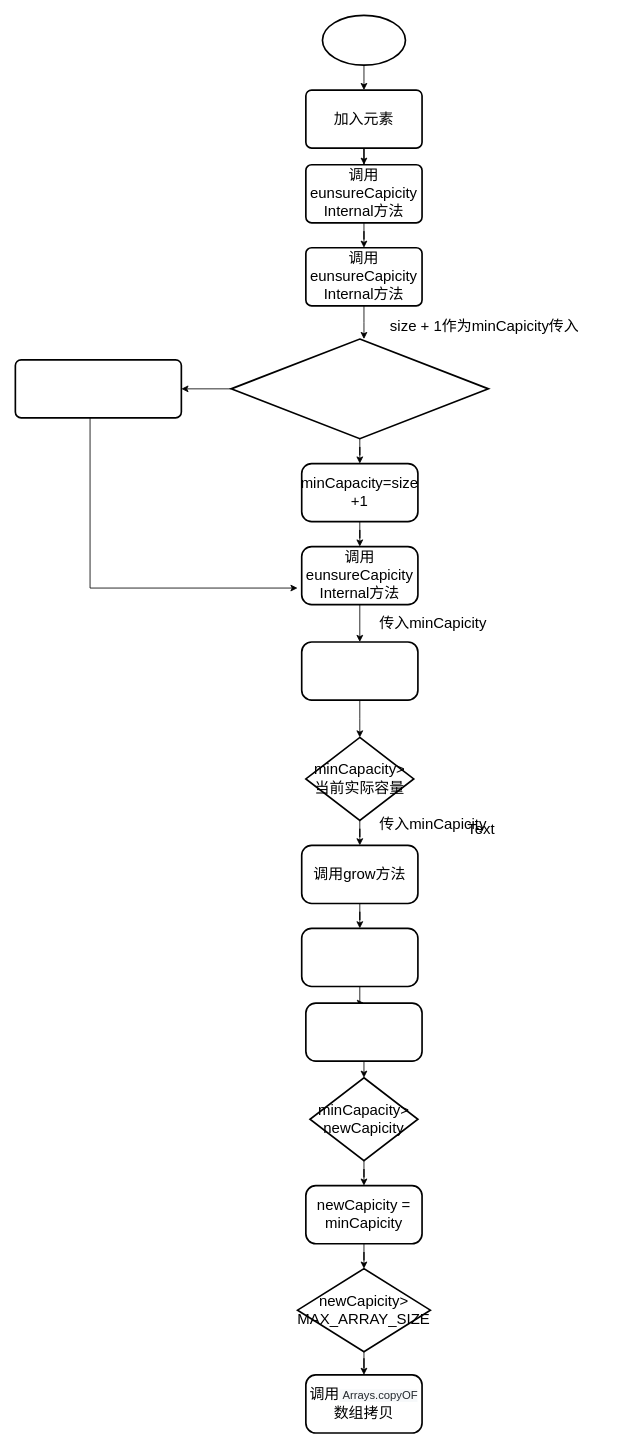
Image size: 643x1448. Some labels were removed from this diagram. Here are the shapes that lost their labels. From the top down, the centre of each, then its label:
At [363,40]: "开始".
At [98,388]: "minCapicity = max( DEFAULT_CAPACITY , minCapacity )".
At [359,388]: "elementData == DEFAULTCAPACITY_ EMPTY_ELEMENTDATA".
At [359,671]: "调用eunsureExplicit Capicity方法".
At [359,957]: "oldCapicity = elementData.length".
At [363,1032]: "newCapicity = oldCapicity*1.5".
